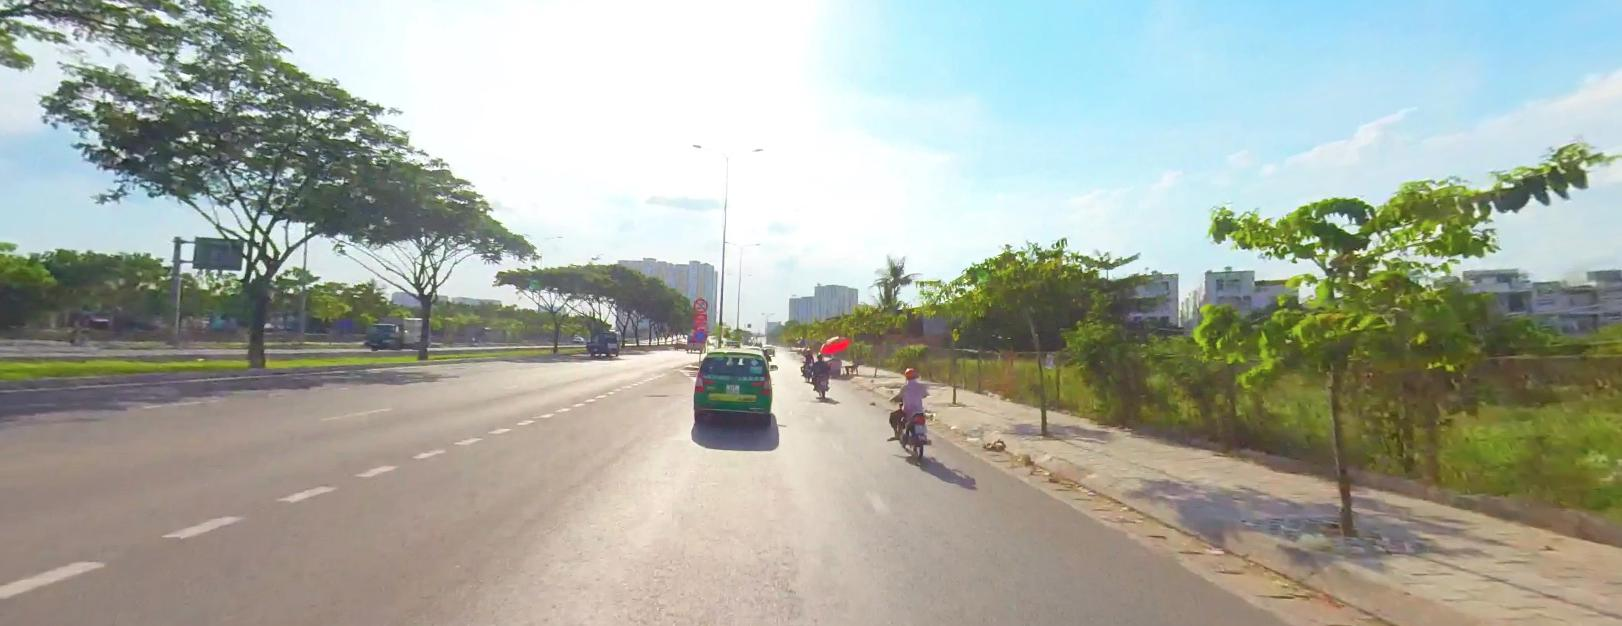Cam con lai: (693, 296, 707, 310), (693, 297, 707, 310), (693, 298, 707, 311)
Cam dung va do: (692, 327, 707, 341), (693, 327, 707, 341), (693, 327, 707, 340)
